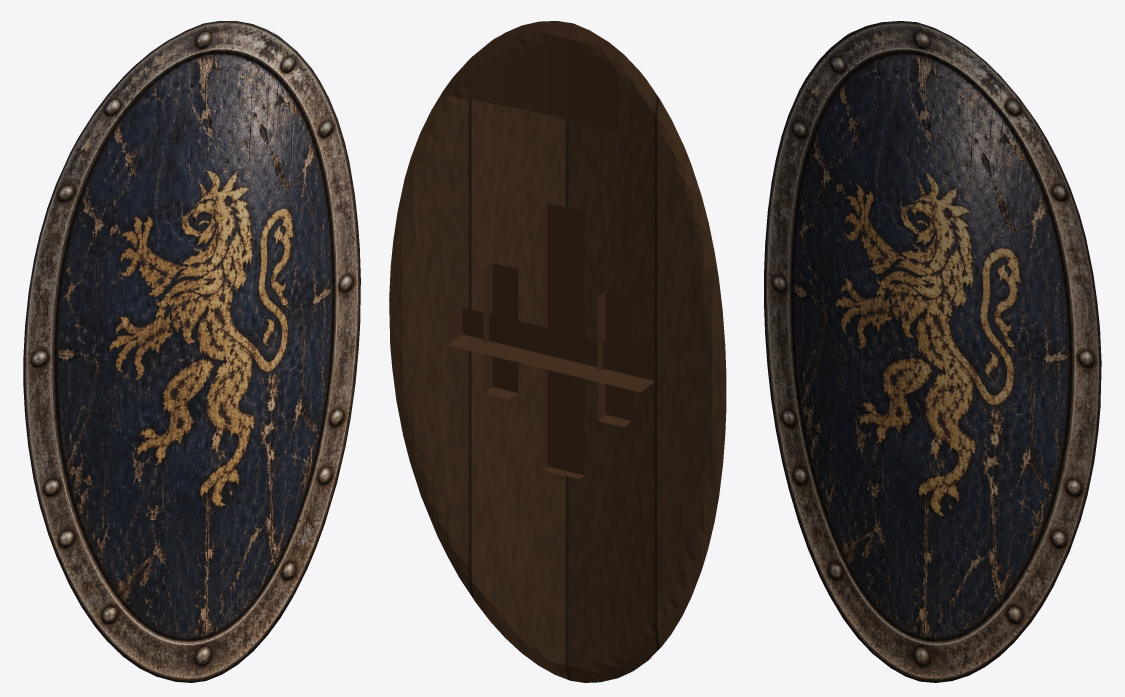
The model's file is shield-oval.glb.
The picture shows the model from 3 angles, left to right: view 1: azimuth 30°, elevation 25°; view 2: azimuth 150°, elevation 25°; view 3: azimuth 330°, elevation 25°; orthographic projection.
Parts seen in each view (by area): view 1: shield-oval; view 2: shield-oval; view 3: shield-oval.
Part boxes in pixels (<box>): shield-oval: <box>23,21,360,682</box>; shield-oval: <box>389,21,726,682</box>; shield-oval: <box>764,21,1101,682</box>.
Bounding box in the file's own units: 0.4557 × 0.8494 × 0.0852.
1 material, 1 textured.
